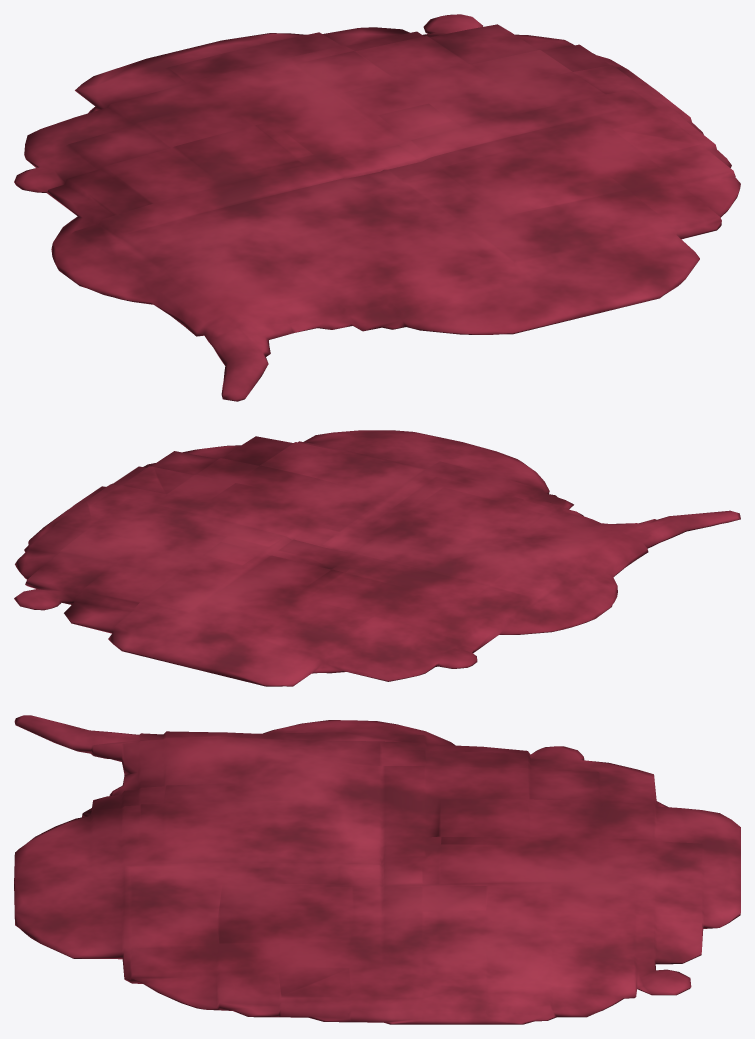
The model's file is charco_sangre.fbx.
3 views of the same model, one above another, from view 1: azimuth 30°, elevation 25°; view 2: azimuth 150°, elevation 25°; view 3: azimuth 270°, elevation 25° (orthographic). The views are drawn at different scales.
Parts seen in each view (by area): view 1: charco; view 2: charco; view 3: charco.
Boxes of the visible parts, bbox=[...] form: charco: bbox=[14, 14, 740, 401]; charco: bbox=[14, 430, 740, 686]; charco: bbox=[14, 715, 740, 1024].
Size of the model in its own units: 3 by 0.1005 by 3.
Materials: 1 (1 with a texture image).
